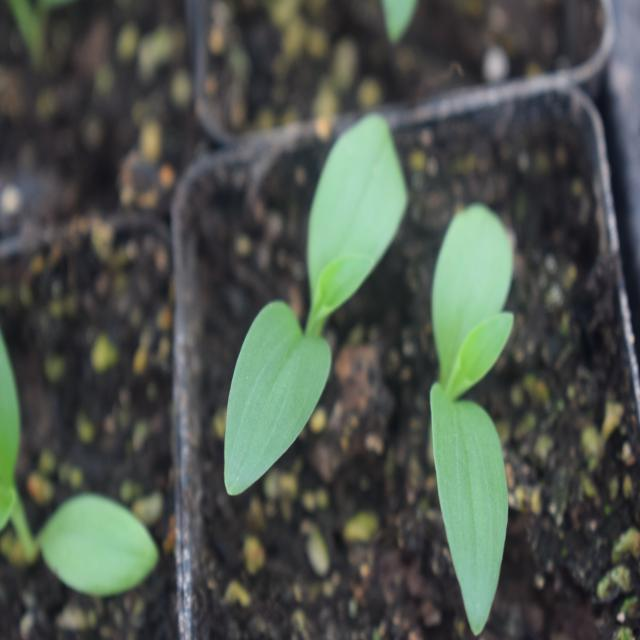Common Dayflower: (220, 119, 462, 520), (421, 187, 528, 634)
